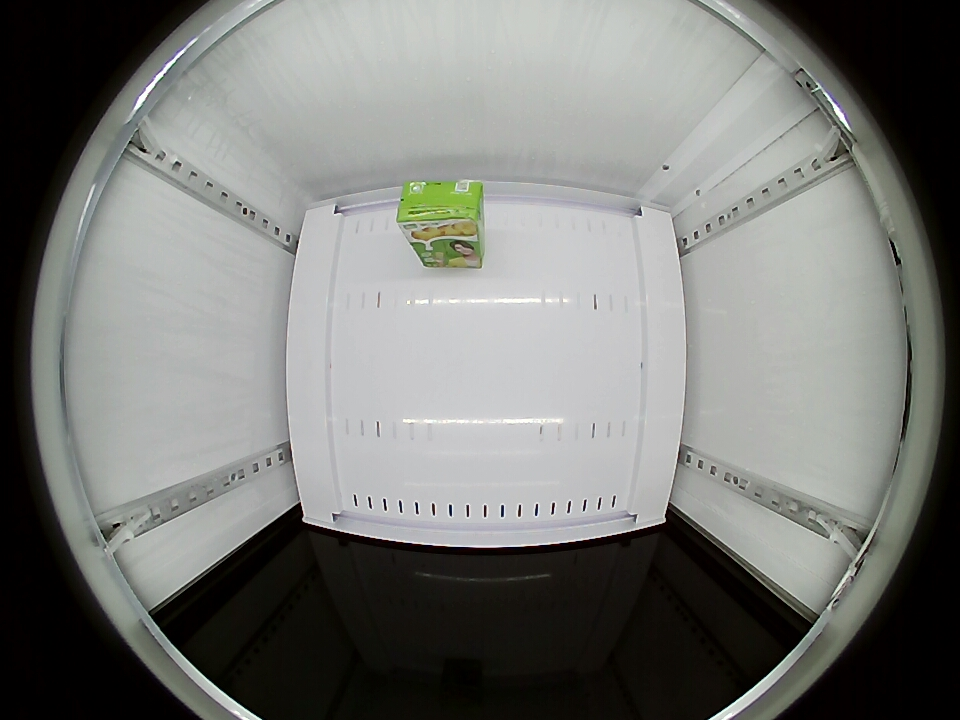mengniuzaocan: (396, 180, 483, 237)
